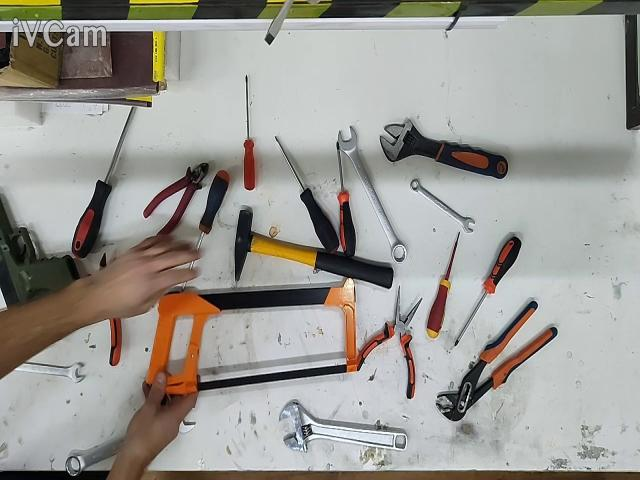Adjustable spanner: (379, 118, 509, 178), (279, 400, 407, 451)
Backsaw: (146, 278, 358, 395)
Cutting pliers: (143, 163, 209, 238)
Gas wrench: (435, 300, 558, 422)
Gun: (0, 200, 79, 305)
Hammer: (235, 211, 394, 288)
Hand: (1, 237, 200, 378), (109, 372, 198, 479)
Needle-nose pliers: (354, 285, 422, 398)
Screwdriver: (72, 106, 136, 258), (274, 137, 340, 253), (456, 235, 522, 346), (181, 170, 231, 293), (426, 232, 459, 338), (336, 141, 355, 257), (244, 77, 255, 191)
Wrench: (338, 127, 406, 263), (410, 179, 474, 233), (66, 435, 125, 477), (15, 362, 85, 383)
